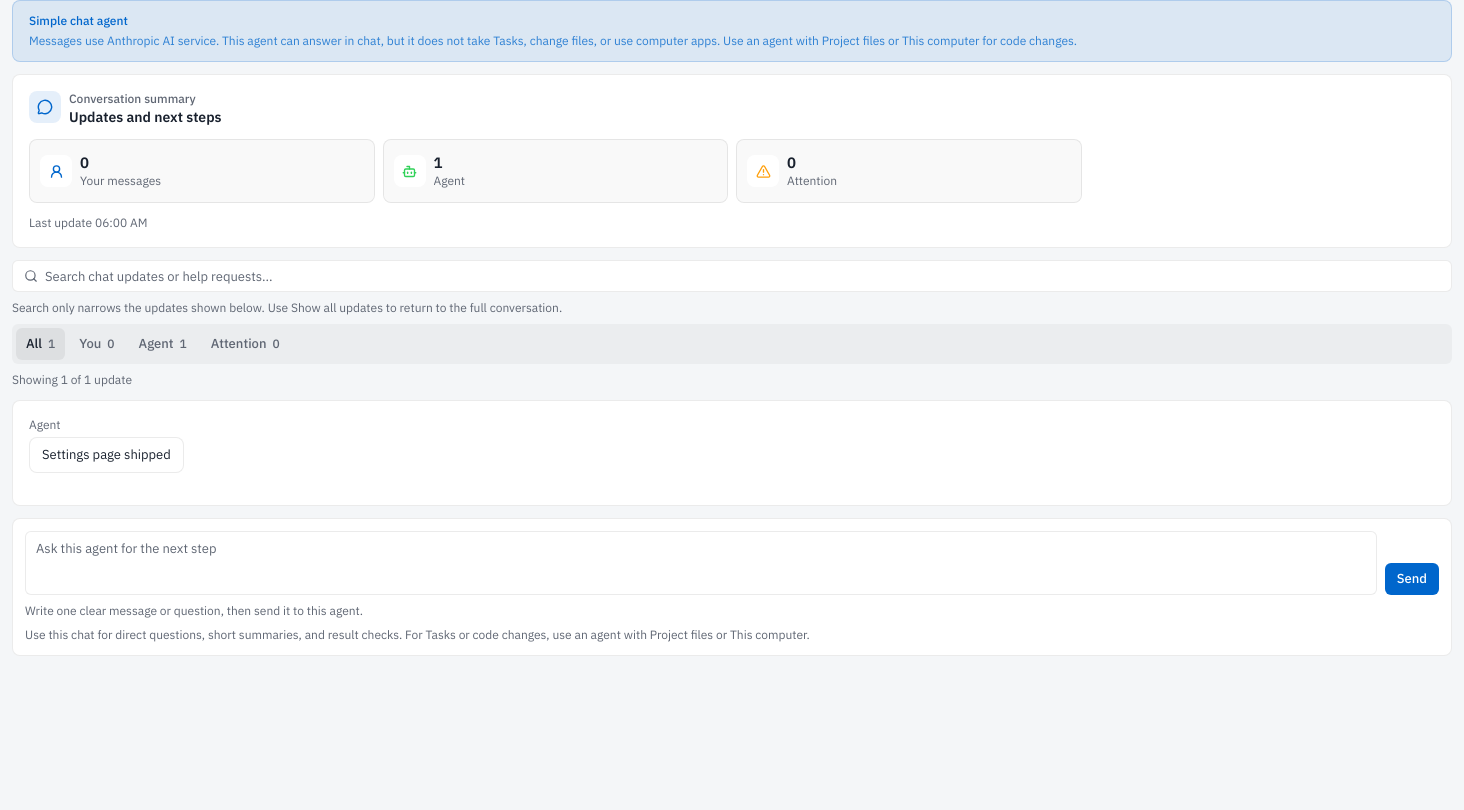
Test: ChatView › explains an empty Attention filter with the next place to check
Click the button with aria-label "show updates that need your next step, 0 matching updates" at coordinates (245, 344), box [201,328,290,360]
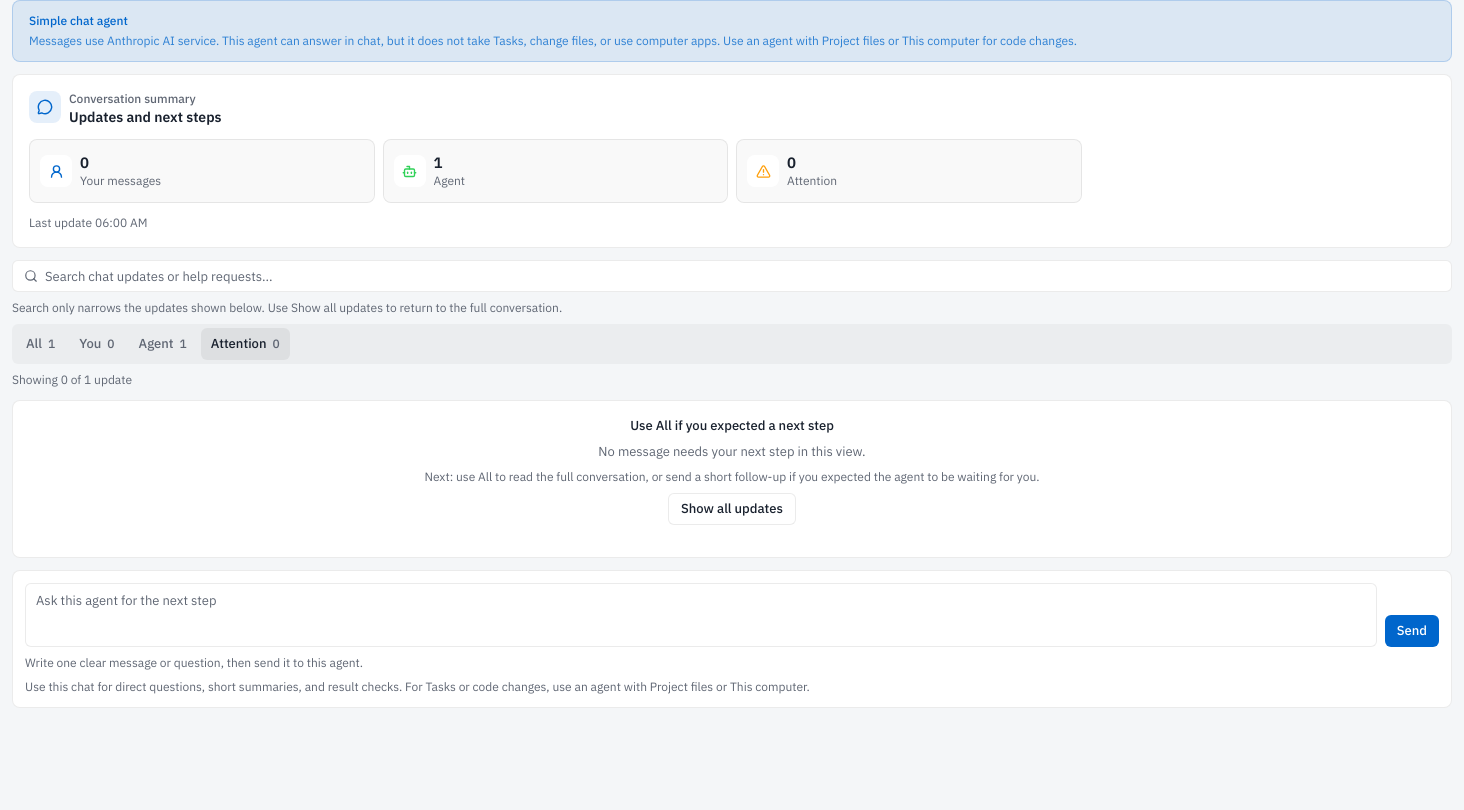
expect the message with test id "conversation-filter-empty" shows "Use All if you expected a next step": met, box [630,417,834,434]
expect the message with test id "conversation-filter-empty" shows "No message needs your next step in this view.": met, box [598,443,866,460]
expect the message with test id "conversation-filter-empty" shows "use All to read the full conversation": met, box [424,469,1040,484]
